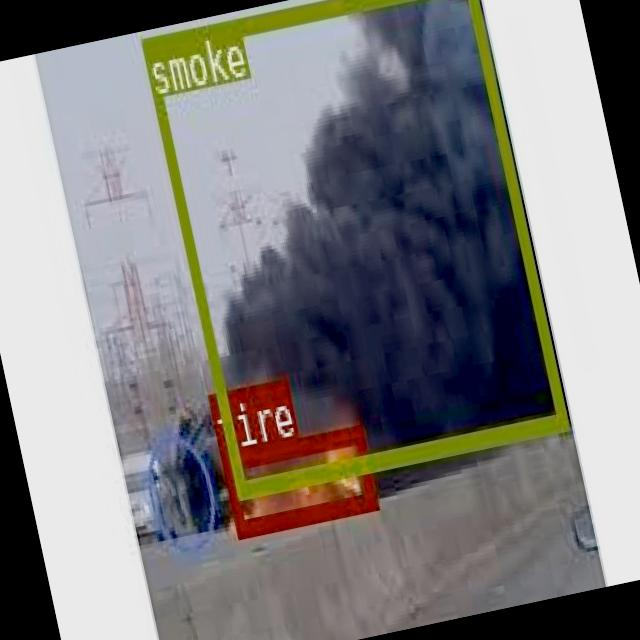fire: (218, 422, 376, 536)
smoke: (138, 0, 566, 494)
